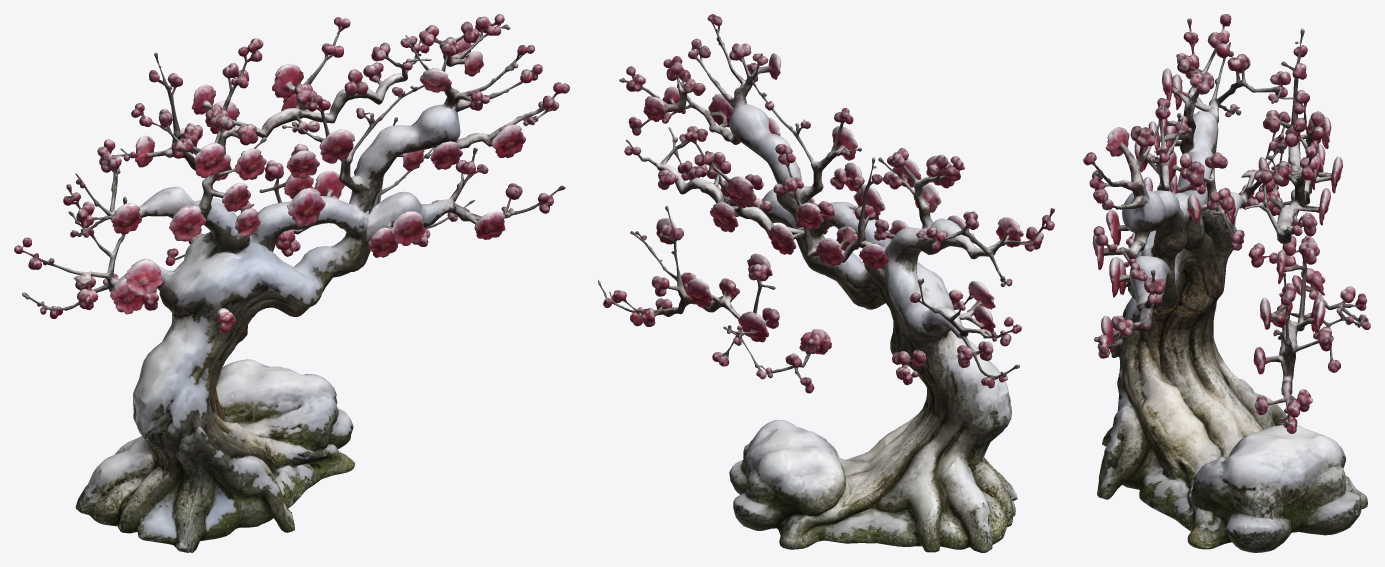
File: arch_plum.glb
3 views of the same model, side by side, from view 1: azimuth 30°, elevation 25°; view 2: azimuth 150°, elevation 25°; view 3: azimuth 270°, elevation 25° (orthographic). The views are drawn at different scales.
Parts seen in each view (by area): view 1: tripo_node_2b9311d5-fb54-4e8a-a3a1-a16354857d8d; view 2: tripo_node_2b9311d5-fb54-4e8a-a3a1-a16354857d8d; view 3: tripo_node_2b9311d5-fb54-4e8a-a3a1-a16354857d8d.
Part boxes in pixels (box(x1,y1,x2,y2)): tripo_node_2b9311d5-fb54-4e8a-a3a1-a16354857d8d: box(14, 14, 569, 552); tripo_node_2b9311d5-fb54-4e8a-a3a1-a16354857d8d: box(598, 14, 1054, 552); tripo_node_2b9311d5-fb54-4e8a-a3a1-a16354857d8d: box(1083, 14, 1370, 552).
Bounding box in the file's own units: 0.9815 × 0.8695 × 0.4829.
1 material, 1 textured.
